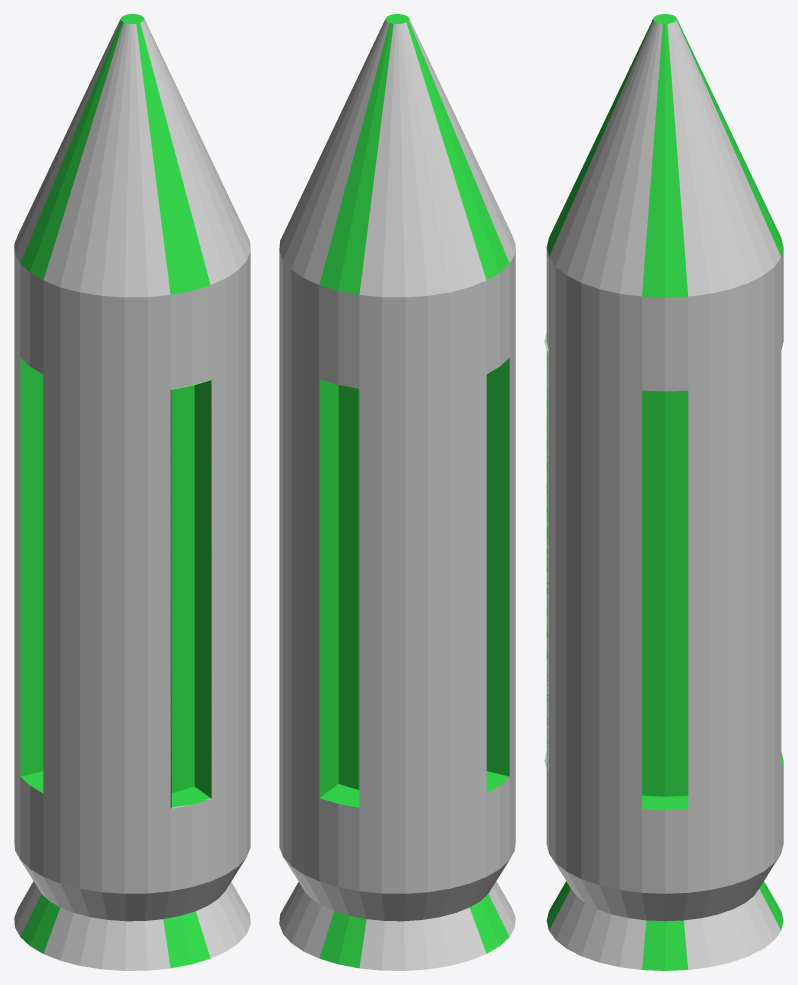
File: bullet.fbx
3 renders of one model, left to right at view 1: azimuth 30°, elevation 25°; view 2: azimuth 150°, elevation 25°; view 3: azimuth 270°, elevation 25°, orthographic.
Visible parts, largest first — view 1: Cylinder; view 2: Cylinder; view 3: Cylinder.
Boxes of the visible parts, x1=… form: Cylinder: x1=14, y1=14, x2=250, y2=970; Cylinder: x1=279, y1=14, x2=515, y2=970; Cylinder: x1=544, y1=14, x2=783, y2=970.
Size of the model in its own units: 93.98 by 94.87 by 395.
